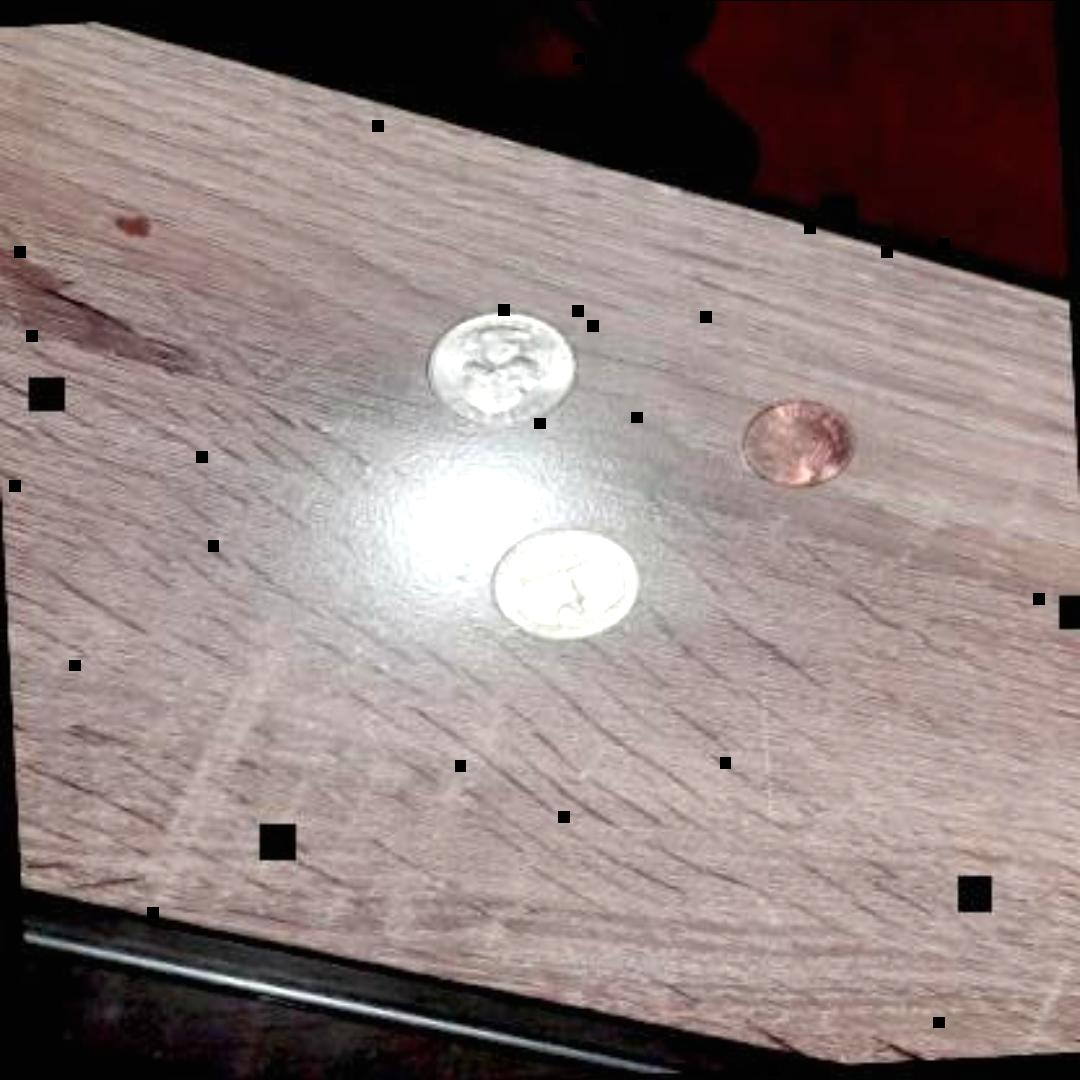Penny: (726, 386, 856, 496)
Quarter: (471, 518, 647, 650), (412, 303, 578, 435)
